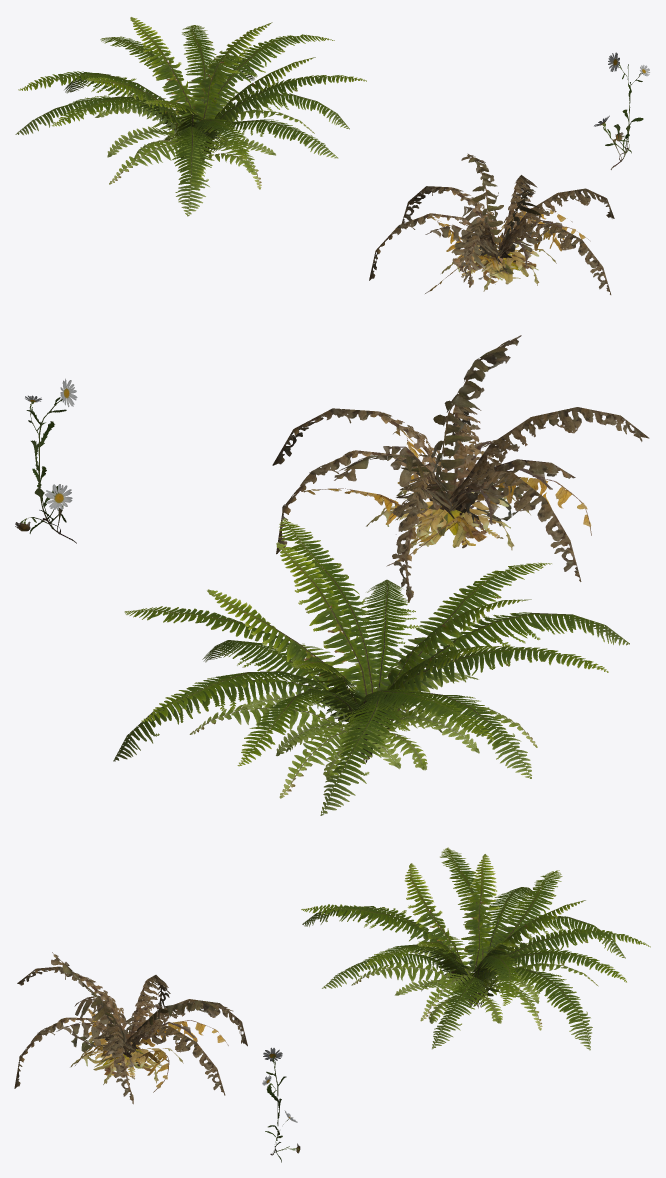
Rendered from PlantsFBX.fbx.
3 views of the same model, one above another, from view 1: azimuth 30°, elevation 25°; view 2: azimuth 150°, elevation 25°; view 3: azimuth 270°, elevation 25° (orthographic). The views are drawn at different scales.
Visible parts, largest first — view 1: Plane010, Plane013, Plane028, Plane007, Plane018, Plane014, Plane011, Plane049, Plane012, Plane048, Plane016, Plane044 (+19 smaller); view 2: Plane014, Plane027, Plane002, Plane010, Plane015, Plane011, Plane050, Plane065, Plane008, Plane016, Plane003, Plane012 (+24 smaller); view 3: Plane008, Plane025, Plane017, Plane016, Plane026, Plane009, Plane003, Plane018, Plane047, Plane010, Plane011, Plane012 (+19 smaller).
Boxes of the visible parts, x1,y1,x2,y2 form: Plane010: (163,126,220,216); Plane013: (197,34,334,130); Plane028: (192,22,272,132); Plane007: (130,17,196,129); Plane018: (182,25,216,154); Plane014: (199,75,366,151); Plane011: (199,119,338,158); Plane049: (499,223,611,294); Plane012: (15,95,180,141); Plane048: (505,188,614,247); Plane016: (51,96,183,137); Plane044: (461,153,503,247); Plane014: (279,518,383,701); Plane027: (276,542,371,707); Plane002: (320,696,408,815); Plane010: (375,612,629,748); Plane015: (376,562,551,741); Plane011: (357,579,421,696); Plane050: (460,407,649,498); Plane065: (427,335,521,498); Plane008: (113,675,365,761); Plane016: (366,646,608,740); Plane003: (237,689,370,766); Plane012: (364,691,531,778); Plane008: (471,967,592,1050); Plane025: (461,854,500,995); Plane017: (470,870,562,1001); Plane016: (440,847,493,992); Plane026: (404,863,470,1000); Plane009: (432,977,487,1049); Plane003: (472,928,650,1001); Plane018: (471,948,626,996); Plane047: (125,1024,225,1095); Plane010: (302,906,455,972); Plane011: (322,952,467,999); Plane012: (483,887,534,982).
Bounding box in the file's own units: 148 × 34.31 × 168.
Materials: 2 (2 with a texture image).
